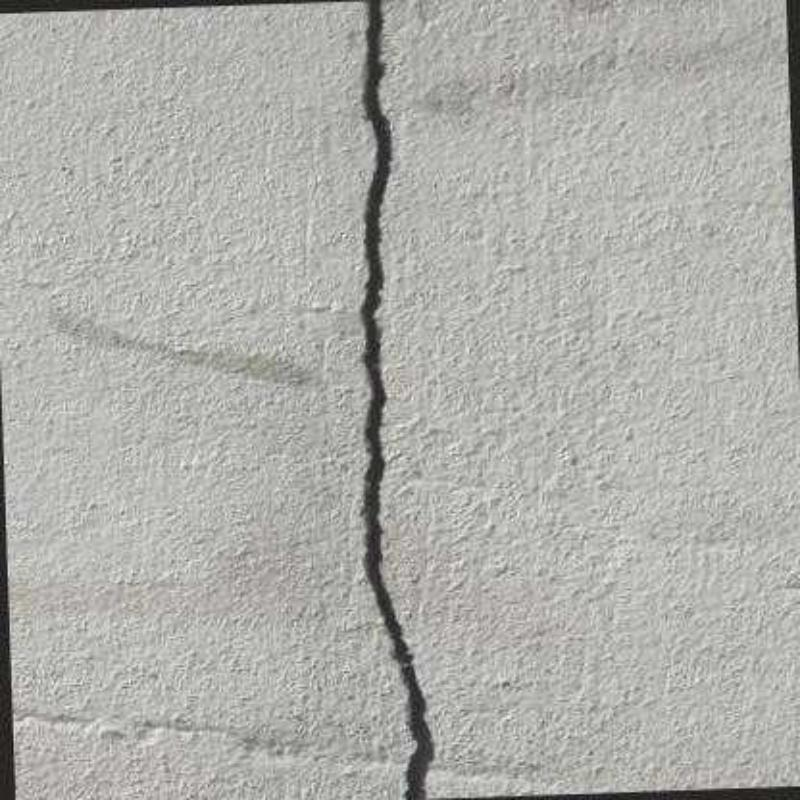crack: (355, 0, 436, 800)
